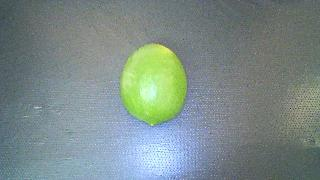EXPORTACION: (120, 44, 187, 126)
